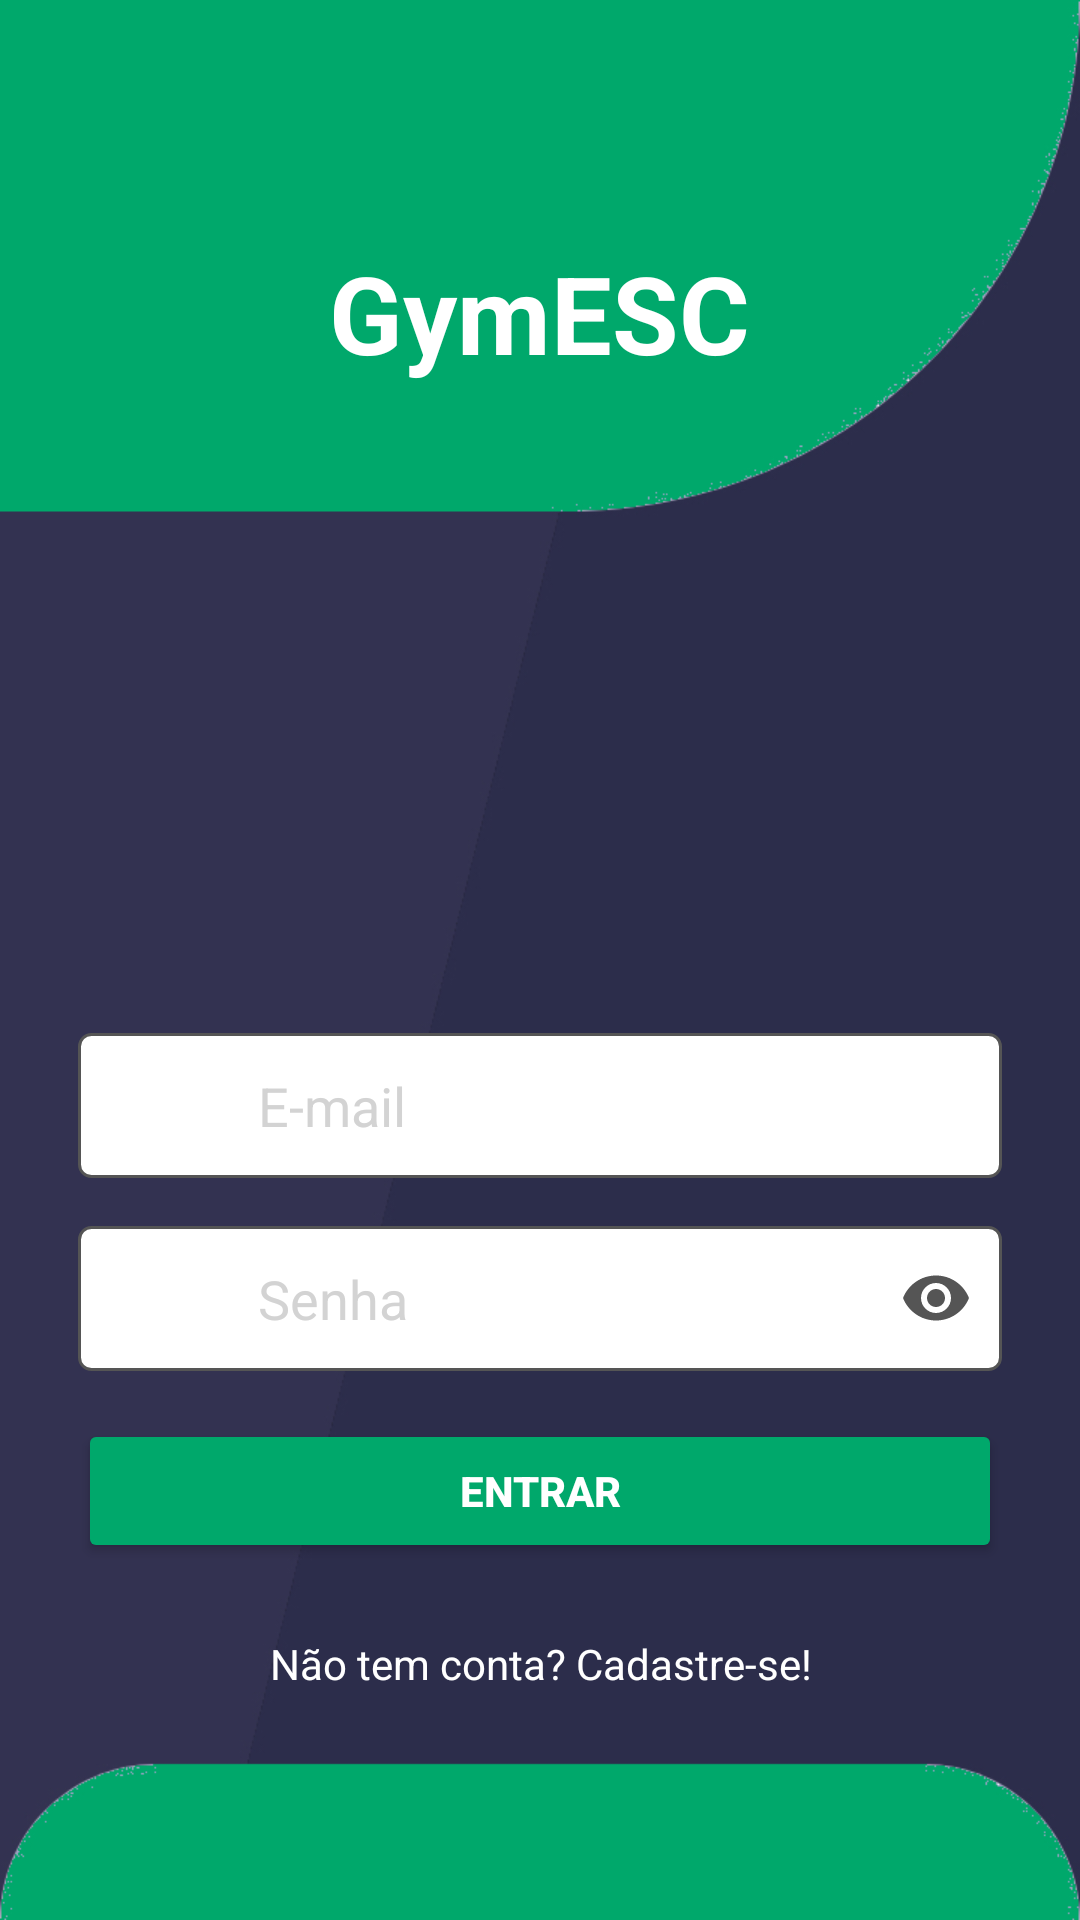

Named icons in this screenshot (1080 x 1920) and their bounding boxes, (x1, y1, x2, y2):
remove eye: (903, 1275, 969, 1321)
